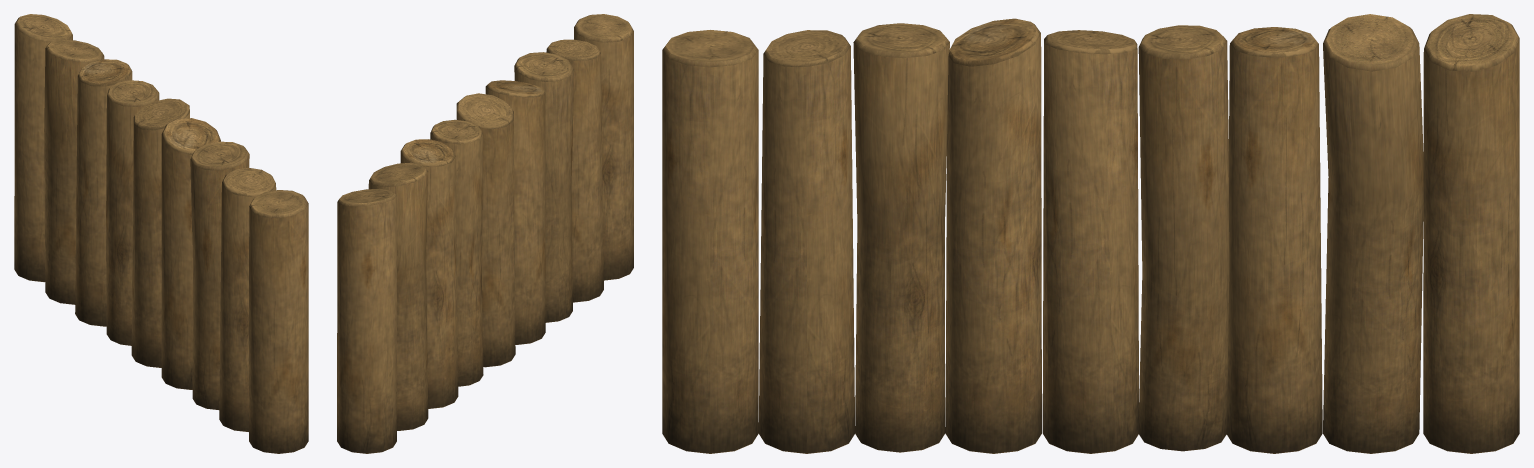
File: FenceLow_Wood_Straight01.fbx
3 views of the same model, side by side, from view 1: azimuth 30°, elevation 25°; view 2: azimuth 150°, elevation 25°; view 3: azimuth 270°, elevation 25° (orthographic). The views are drawn at different scales.
Parts seen in each view (by area): view 1: Cylinder; view 2: Cylinder; view 3: Cylinder.
Part boxes in pixels (<box>): Cylinder: <box>14,14,308,453</box>; Cylinder: <box>337,14,633,453</box>; Cylinder: <box>662,14,1519,453</box>.
Bounding box in the file's own units: 22.51 × 104 × 200.
